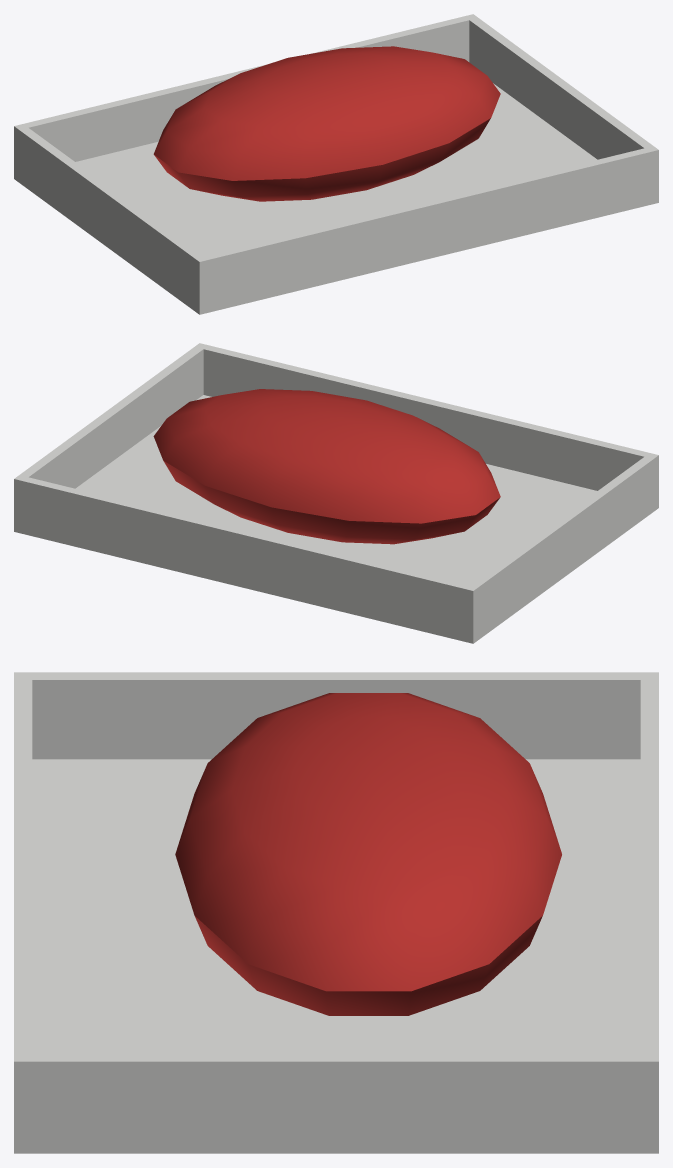
File: Ground_Beef.fbx
3 renders of one model, top to bottom at view 1: azimuth 30°, elevation 25°; view 2: azimuth 150°, elevation 25°; view 3: azimuth 270°, elevation 25°, orthographic. The views are drawn at different scales.
Parts seen in each view (by area): view 1: Ground_Beef; view 2: Ground_Beef; view 3: Ground_Beef.
Part boxes in pixels (x1=…): Ground_Beef: x1=14, y1=14, x2=658, y2=314; Ground_Beef: x1=14, y1=343, x2=658, y2=643; Ground_Beef: x1=14, y1=672, x2=658, y2=1153.
Size of the model in its own units: 0.2 by 0.047 by 0.14.
